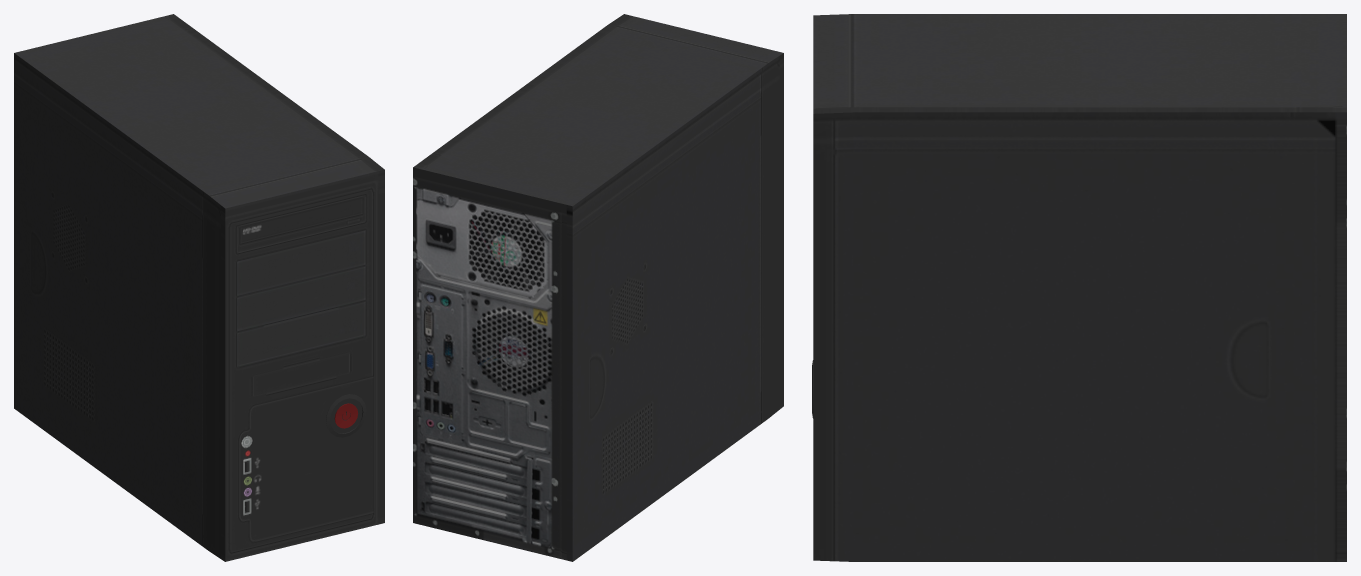
The model's file is CR_CPU.fbx.
The picture shows the model from 3 angles, left to right: view 1: azimuth 30°, elevation 25°; view 2: azimuth 150°, elevation 25°; view 3: azimuth 270°, elevation 25°; orthographic projection. The views are drawn at different scales.
Parts seen in each view (by area): view 1: CPU; view 2: CPU; view 3: CPU.
Part boxes in pixels (x1,y1,x2,y2): CPU: [14, 14, 384, 561]; CPU: [413, 14, 783, 561]; CPU: [812, 14, 1346, 561].
Bounding box in the file's own units: 17.94 × 38.19 × 41.17.
